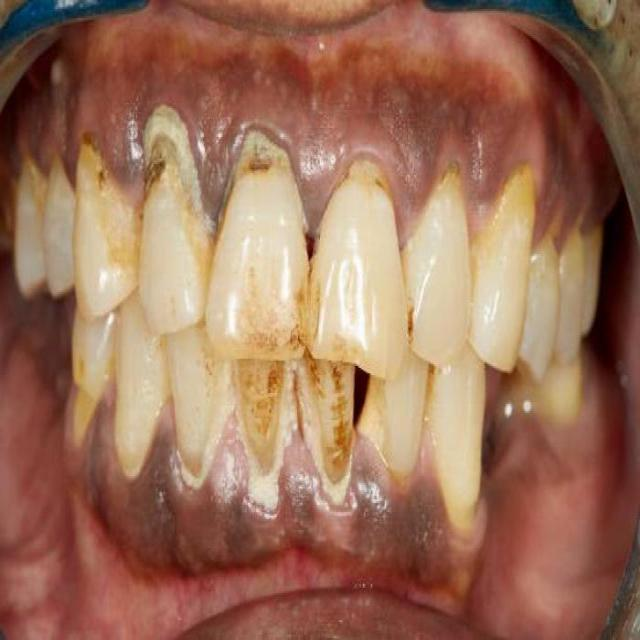CALCULUS: (296, 322, 359, 451), (251, 353, 287, 458), (251, 134, 293, 192), (253, 302, 292, 350), (140, 141, 172, 186), (363, 374, 390, 425), (82, 165, 117, 201), (302, 284, 331, 319), (400, 299, 424, 340), (441, 160, 464, 201), (517, 164, 533, 195), (430, 363, 443, 391), (377, 191, 393, 212)
